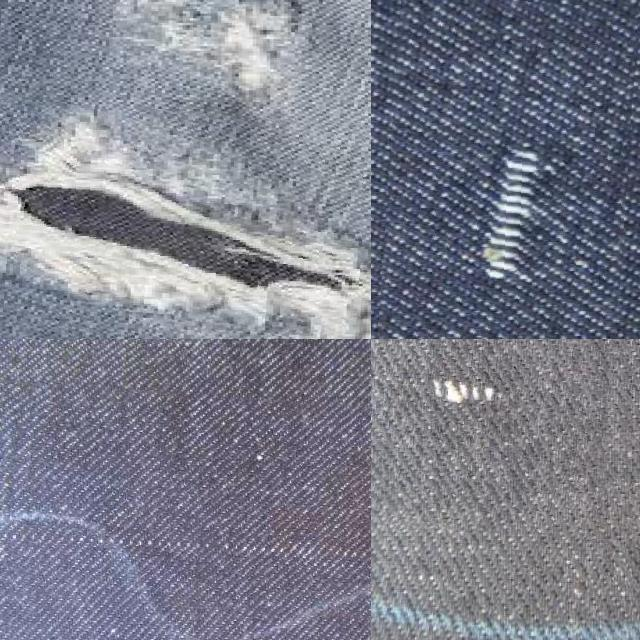other: (0, 103, 371, 339)
stains: (0, 390, 371, 624), (380, 0, 632, 339), (371, 339, 614, 535)
